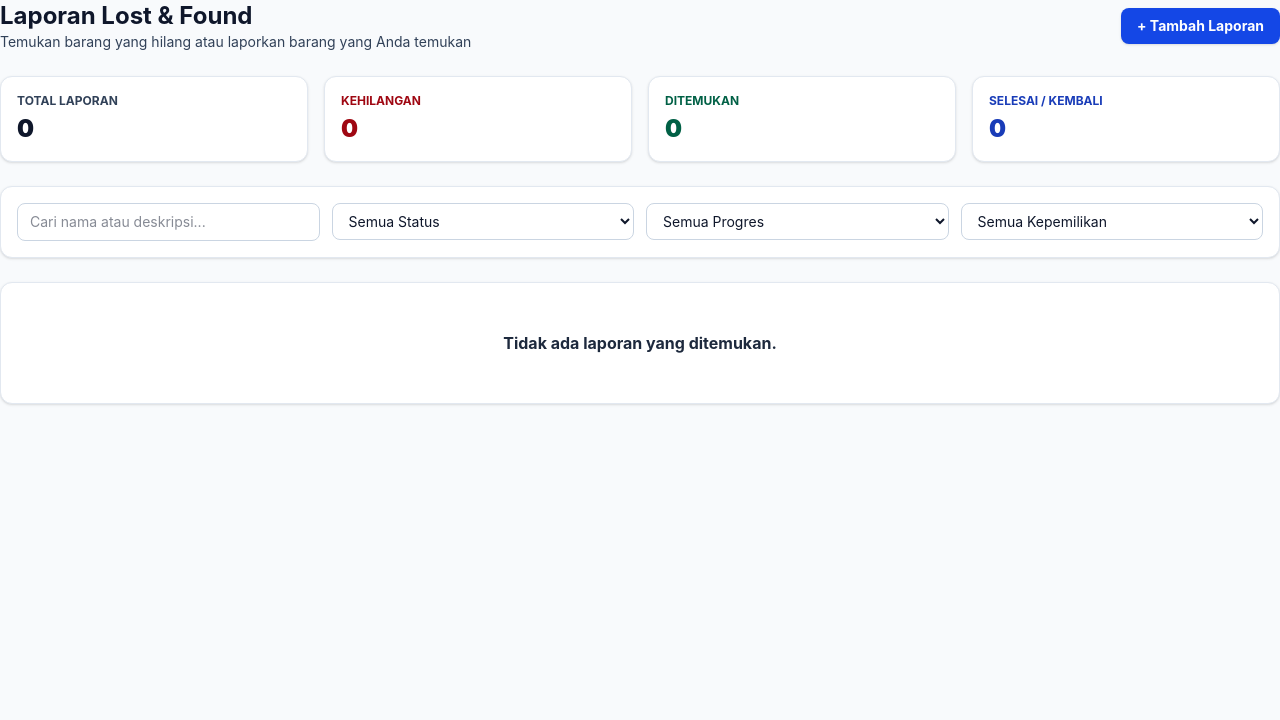
Scenario: HomePage › should open and close AddModal
The width and height of the screenshot is (1280, 720).
Step 1. Click the button "+ Tambah Laporan" → (1200, 26), box [1121,8,1279,44]
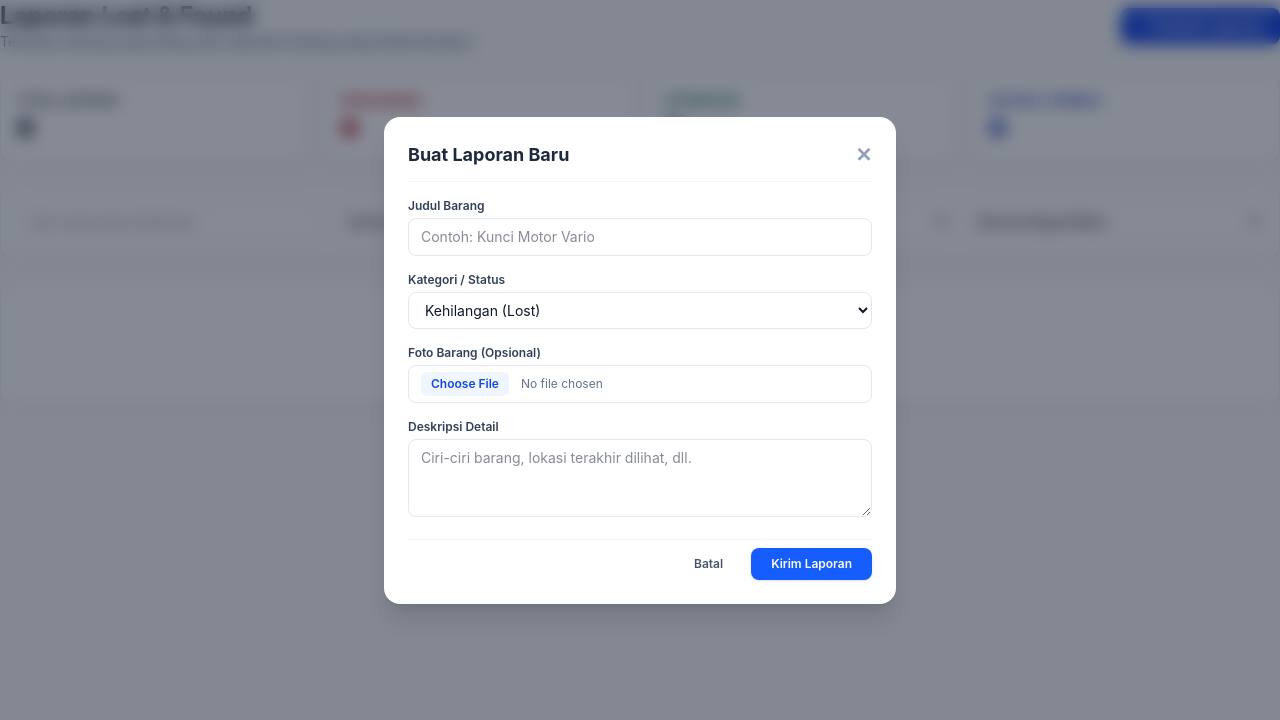
Result: the heading "Buat Laporan Baru" is shown at [408,140,569,168]
Step 2. Click the button "Batal" → (709, 564), box [678,548,739,580]
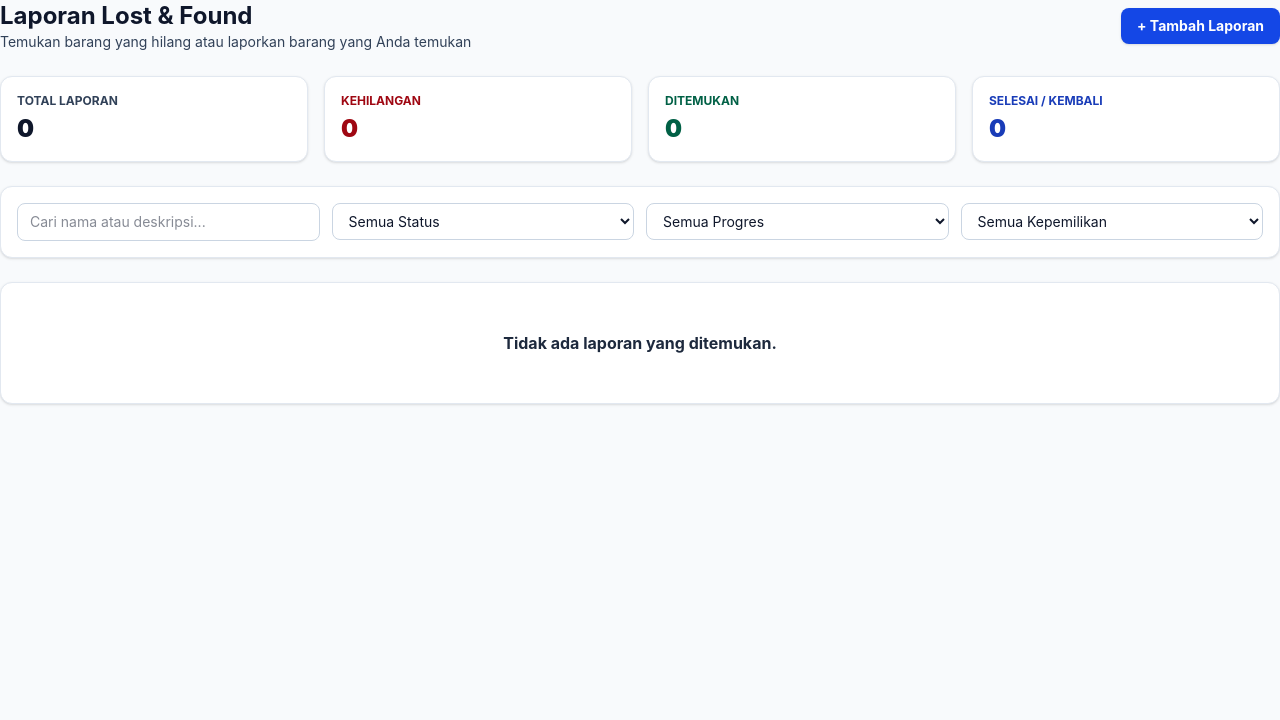
Result: the heading "Buat Laporan Baru" is gone
